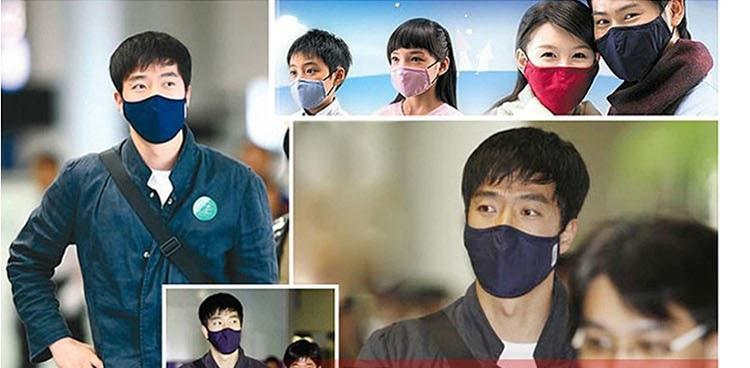OK: (466, 179, 565, 290), (528, 40, 598, 113), (596, 1, 660, 74), (123, 70, 191, 138), (288, 58, 335, 112), (389, 45, 438, 94), (202, 313, 248, 359)
